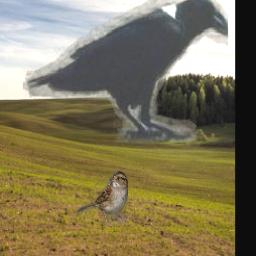Crow: (24, 0, 229, 144)
Sparrow: (76, 172, 128, 227)
